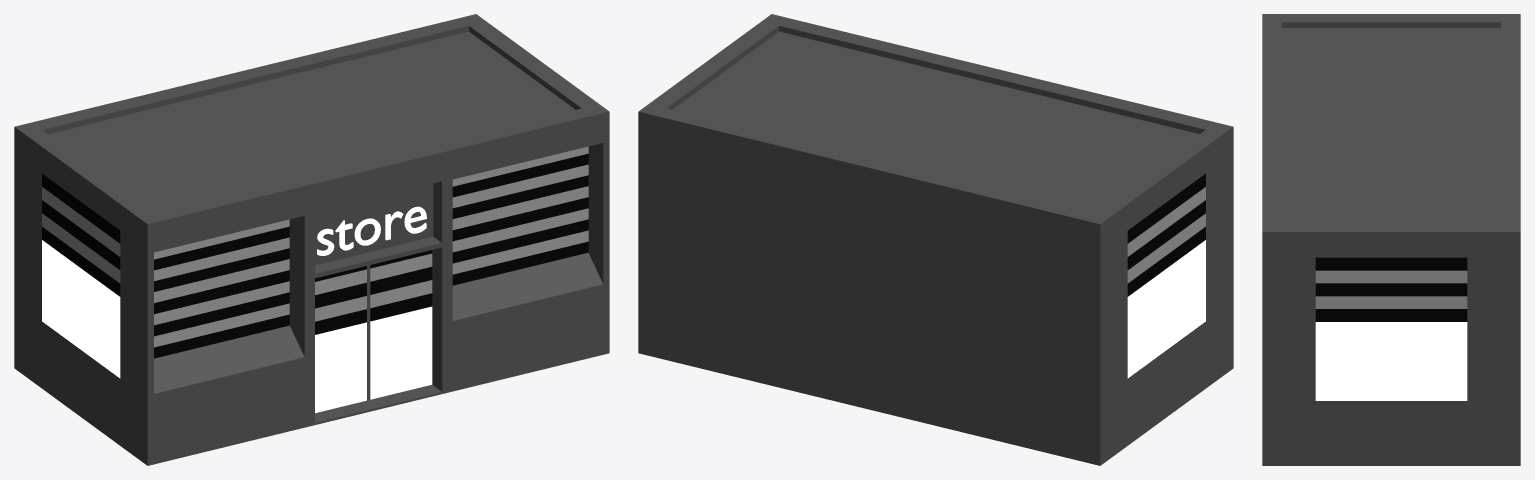
The model's file is Magasin2.fbx.
The picture shows the model from 3 angles, left to right: view 1: azimuth 30°, elevation 25°; view 2: azimuth 150°, elevation 25°; view 3: azimuth 270°, elevation 25°; orthographic projection. The views are drawn at different scales.
Parts seen in each view (by area): view 1: Text.001; view 2: Text.001; view 3: Text.001.
Part boxes in pixels (x1=…): Text.001: x1=14, y1=14, x2=609, y2=465; Text.001: x1=638, y1=14, x2=1233, y2=465; Text.001: x1=1262, y1=14, x2=1520, y2=465.
Bounding box in the file's own units: 2000 × 1000 × 1000.
